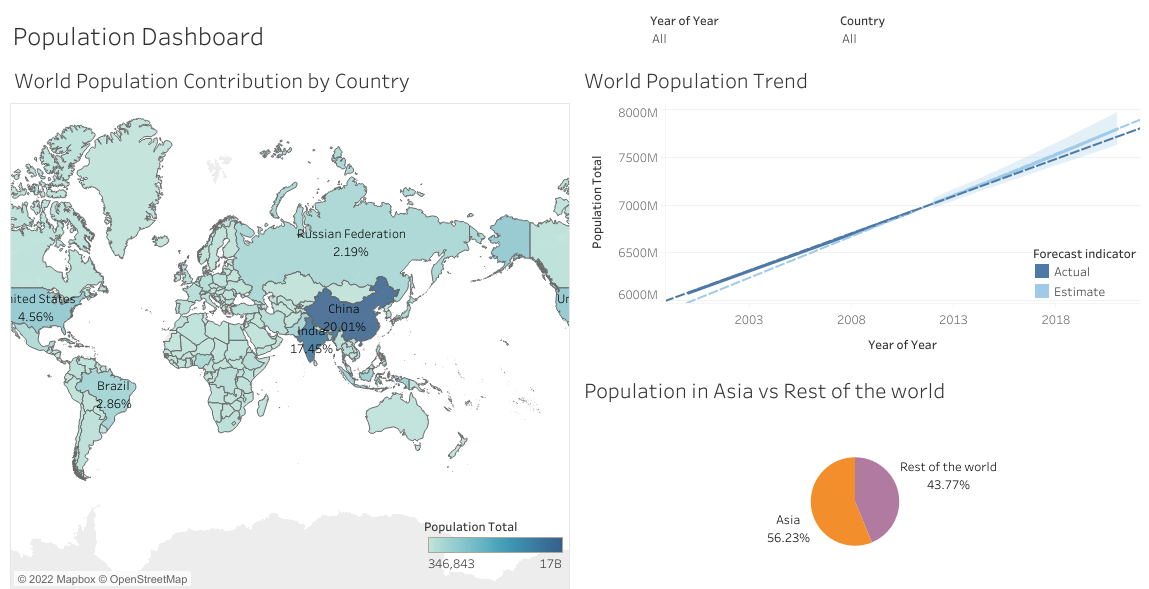

This screenshot's page, from the dashboard's own definition file:
{"tool":"tableau","page":{"name":"Population Dashboard","canvas":[1150,590],"ordinal":0},"visuals":[{"type":"title","box":[10,10,610,50]},{"type":"filter","title":"World Population Contribution by Country","param":"[federated.11yzygf16ej2n311t0xkk1td0rpg].[yr:Year:ok]","box":[650,10,160,50]},{"type":"filter","title":"World Population Contribution by Country","param":"[federated.11yzygf16ej2n311t0xkk1td0rpg].[none:Country:nk]","box":[840,10,250,50]},{"type":"worksheet","title":"World Population Contribution by Country","mark":"Multipolygon","box":[10,60,560,530]},{"type":"worksheet","title":"World Population Trend","mark":"Automatic","rows":["Population Total"],"cols":["Year"],"box":[580,60,560,300]},{"type":"legend","title":"World Population Trend","param":"[federated.11yzygf16ej2n311t0xkk1td0rpg].[none:Forecast Indicator:nk]","box":[1032,242,104,58]},{"type":"worksheet","title":"Population in Asia vs Rest of the world","mark":"Pie","box":[580,370,550,220]},{"type":"legend","title":"World Population Contribution by Country","param":"[federated.11yzygf16ej2n311t0xkk1td0rpg].[sum:Population Total:qk]","box":[424,513,143,76]}]}

Visuals, with their boxes in screenshot pixels (x1, y1, x2, y2), scaled from the page's 1150x590 canvas onto the 1149x589 screenshot:
title: {"x1": 10, "y1": 10, "x2": 619, "y2": 60}
"World Population Contribution by Country" filter: {"x1": 649, "y1": 10, "x2": 809, "y2": 60}
"World Population Contribution by Country" filter: {"x1": 839, "y1": 10, "x2": 1089, "y2": 60}
"World Population Contribution by Country" worksheet (Multipolygon marks): {"x1": 10, "y1": 60, "x2": 570, "y2": 588}
"World Population Trend" worksheet: {"x1": 579, "y1": 60, "x2": 1139, "y2": 359}
"World Population Trend" legend: {"x1": 1031, "y1": 242, "x2": 1135, "y2": 299}
"Population in Asia vs Rest of the world" worksheet (Pie marks): {"x1": 579, "y1": 369, "x2": 1129, "y2": 588}
"World Population Contribution by Country" legend: {"x1": 424, "y1": 512, "x2": 567, "y2": 588}
